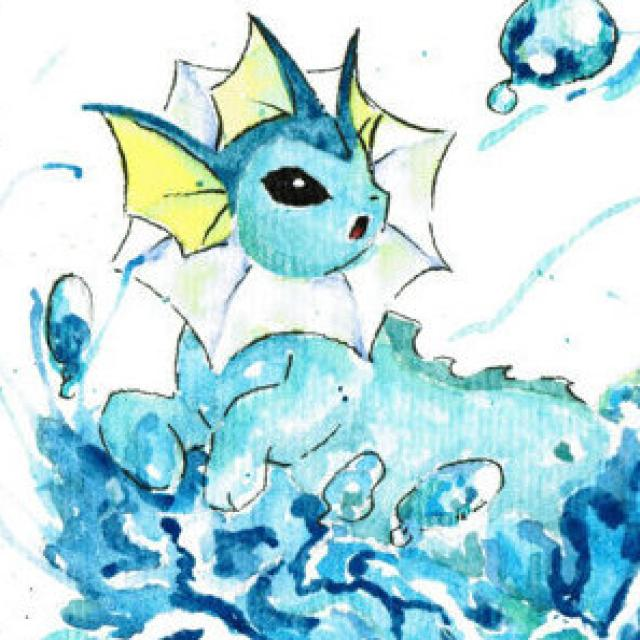Vaporeon: (104, 50, 568, 499)
